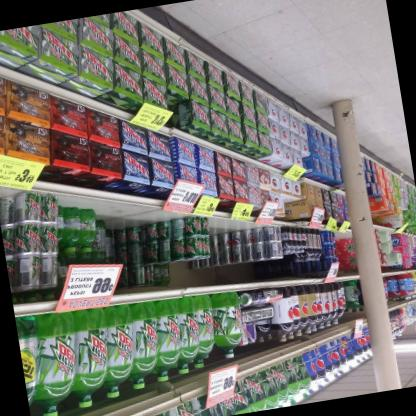empty_space: (99, 204, 160, 230), (193, 266, 242, 285), (210, 214, 252, 235), (61, 197, 80, 207)
